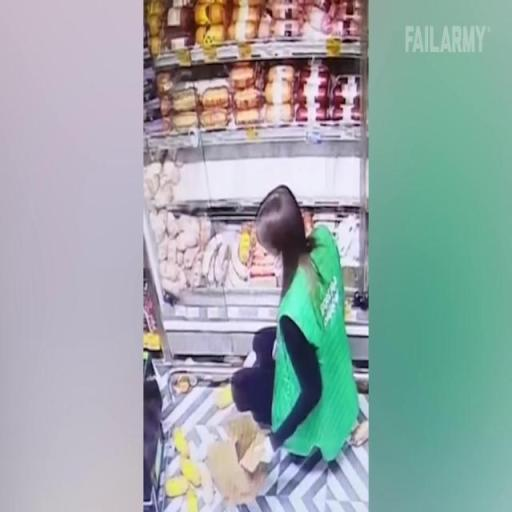Fall: (212, 179, 359, 473)
